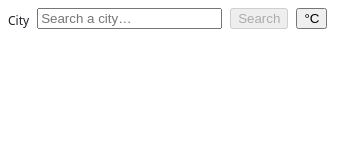
<SearchForm> › disables submit until there is a non-empty query
Expected: the button "Search" is disabled, x1=230 y1=8 x2=288 y2=29
Type "London" into the field labelled "City". click: (130, 18)
box: x1=37 y1=8 x2=222 y2=29
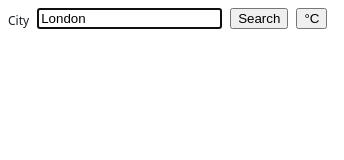
Expected: the button "Search" is enabled, x1=230 y1=8 x2=288 y2=29
